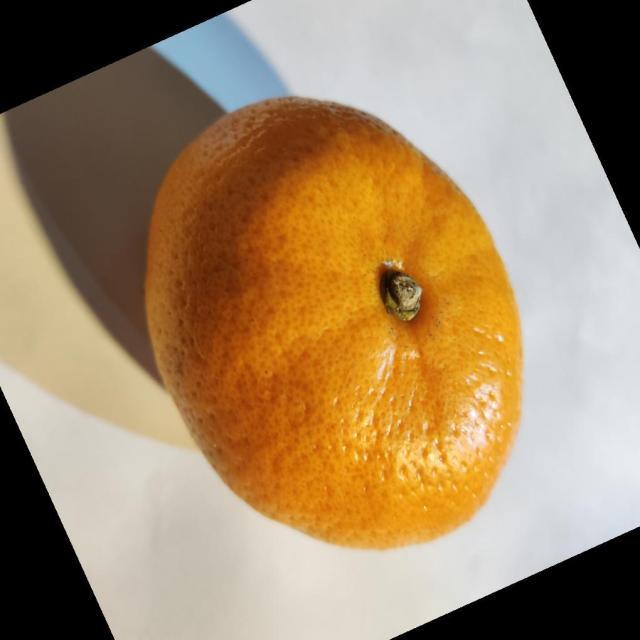fresh orange: (142, 94, 524, 550)
